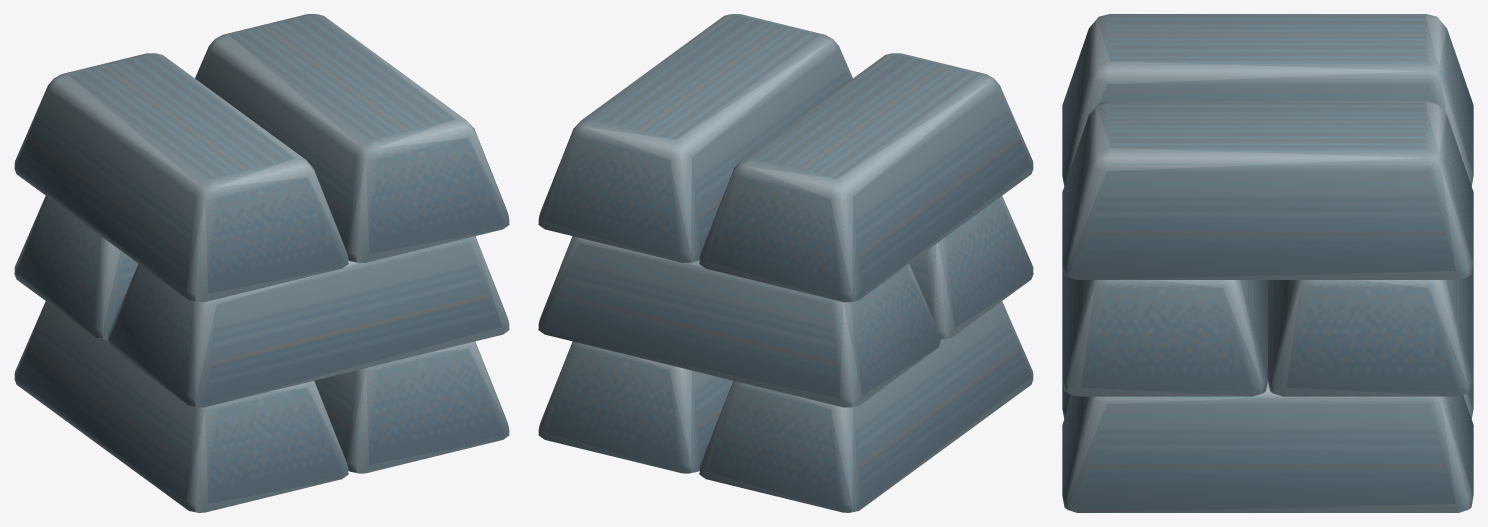
The model's file is Iron_Bars_Stack_Small.gltf.
The picture shows the model from 3 angles, left to right: view 1: azimuth 30°, elevation 25°; view 2: azimuth 150°, elevation 25°; view 3: azimuth 270°, elevation 25°; orthographic projection. The views are drawn at different scales.
Parts seen in each view (by area): view 1: Iron_Bars_Stack_Small; view 2: Iron_Bars_Stack_Small; view 3: Iron_Bars_Stack_Small.
Boxes of the visible parts, left/top/right/bottom form: Iron_Bars_Stack_Small: left=14, top=14, right=509, bottom=512; Iron_Bars_Stack_Small: left=538, top=14, right=1033, bottom=512; Iron_Bars_Stack_Small: left=1062, top=14, right=1473, bottom=512.
Bounding box in the file's own units: 0.8 × 0.75 × 0.8.
Materials: 1 (1 with a texture image).
